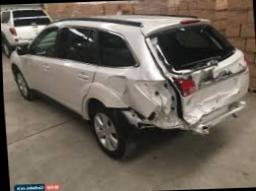Dickey: (139, 21, 248, 126)
Fender: (91, 66, 181, 127)
